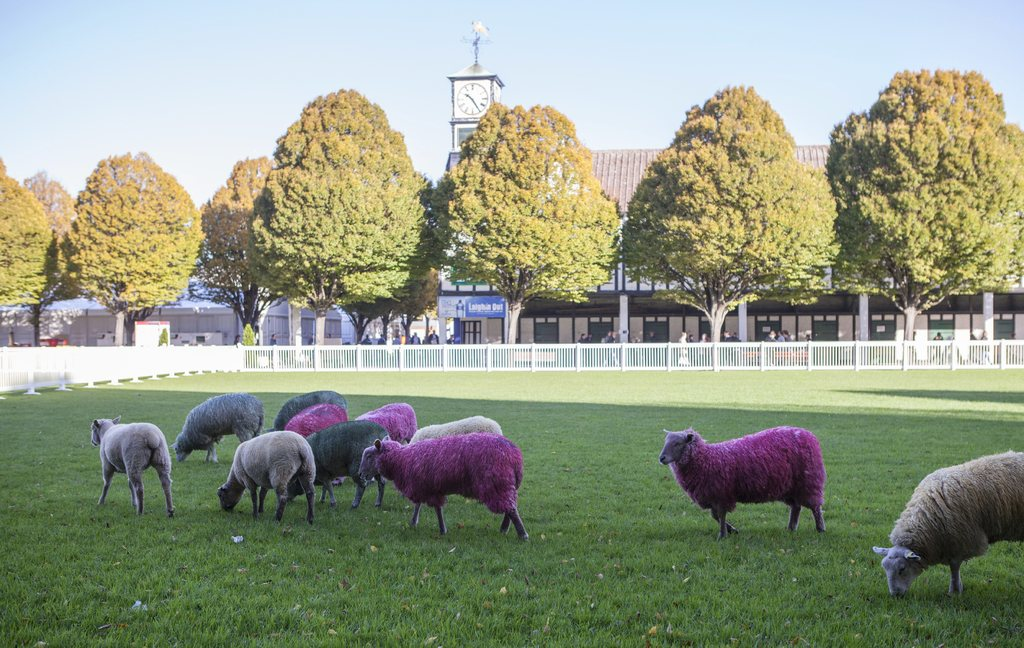sheep: (658, 427, 826, 533)
